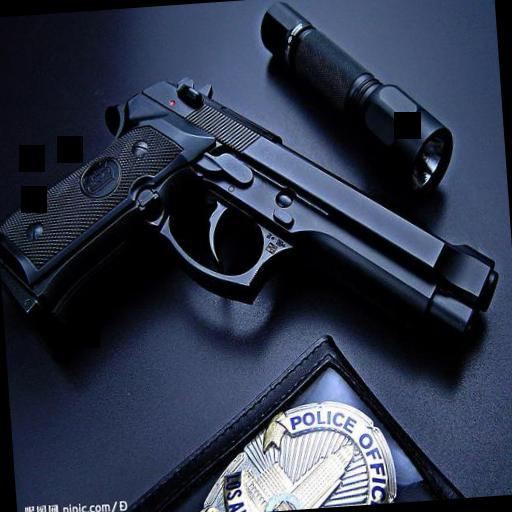Handgun: (0, 54, 502, 384)
